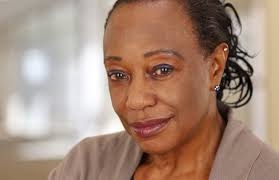no-mask: (97, 2, 240, 157)
